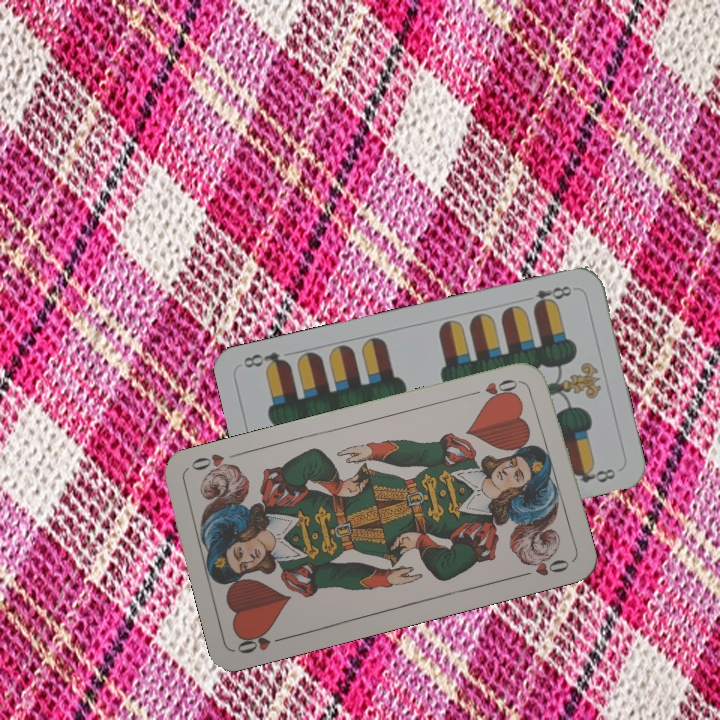E8: (529, 281, 575, 311)
HO: (233, 626, 292, 657), (466, 375, 525, 405)
